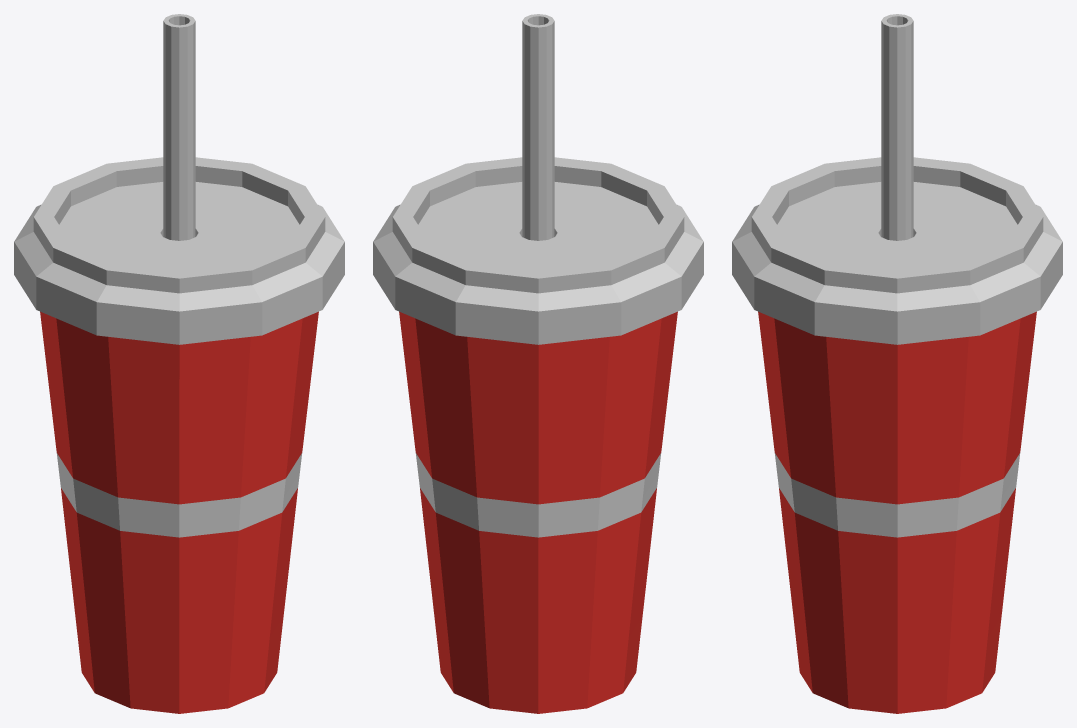
File: Cup_04.fbx
The picture shows the model from 3 angles, left to right: view 1: azimuth 30°, elevation 25°; view 2: azimuth 150°, elevation 25°; view 3: azimuth 270°, elevation 25°; orthographic projection.
Parts seen in each view (by area): view 1: Cup_04; view 2: Cup_04; view 3: Cup_04.
Part boxes in pixels (<box>): Cup_04: <box>14,14,344,713</box>; Cup_04: <box>373,14,703,713</box>; Cup_04: <box>732,14,1062,713</box>.
Size of the model in its own units: 14.66 by 31.88 by 14.66.
